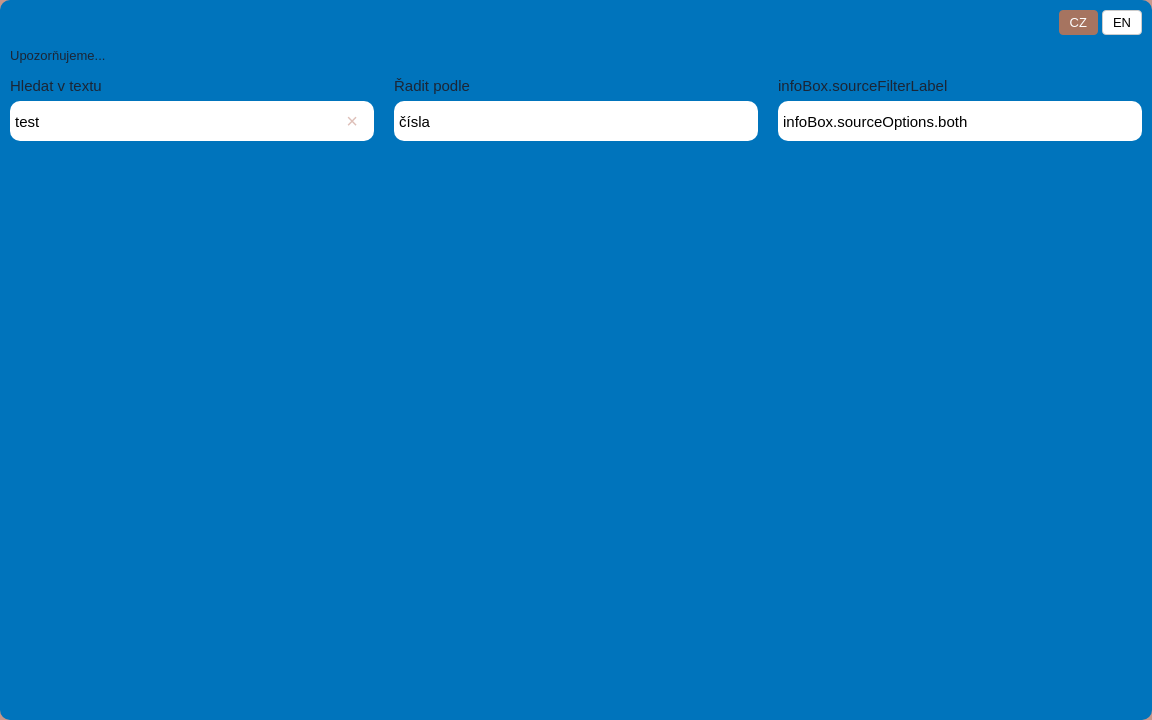
Test: <InfoBox /> › clears search when clear button is clicked
Click the button named "Vymazat" at point(352, 121), box [338,106,366,136]
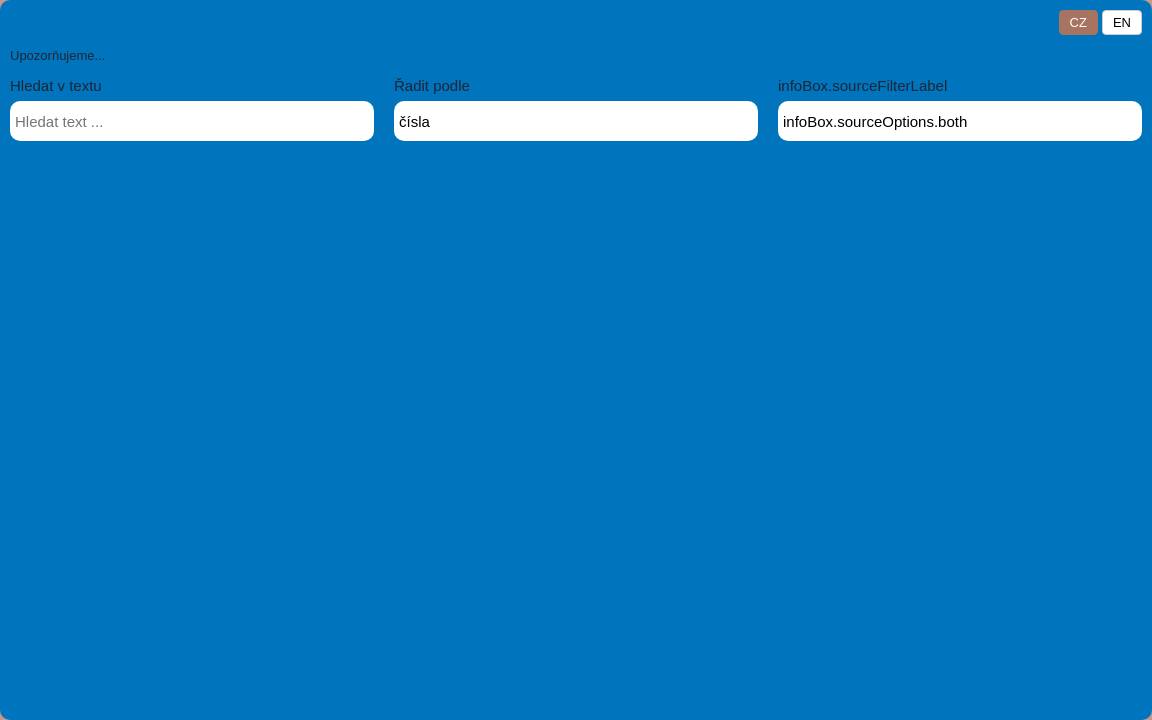
Expected: the field is empty, [10,101,374,141]
